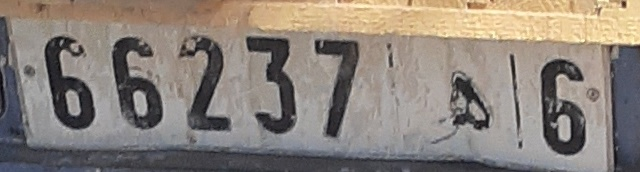2: (175, 32, 233, 138)
3: (242, 34, 301, 136)
6: (535, 55, 589, 159), (42, 34, 97, 132), (109, 35, 164, 132)
7: (311, 38, 362, 141)
h: (411, 64, 501, 146)
